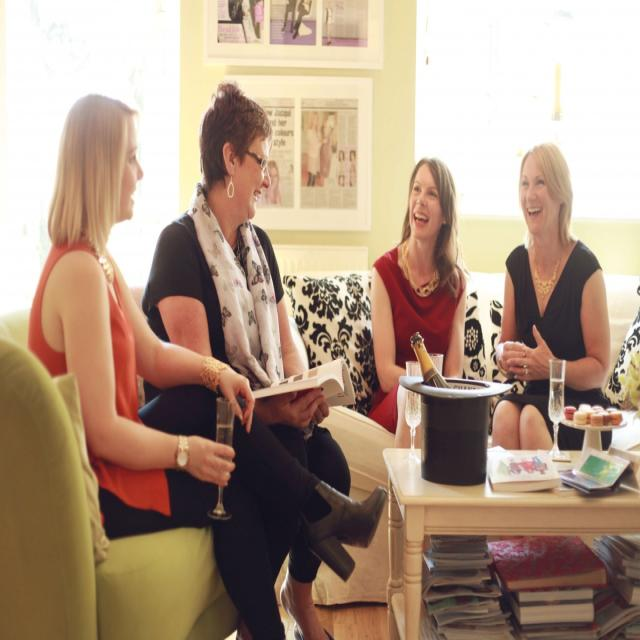body: (20, 86, 392, 639), (134, 81, 351, 639), (489, 136, 614, 454), (367, 154, 469, 453)
